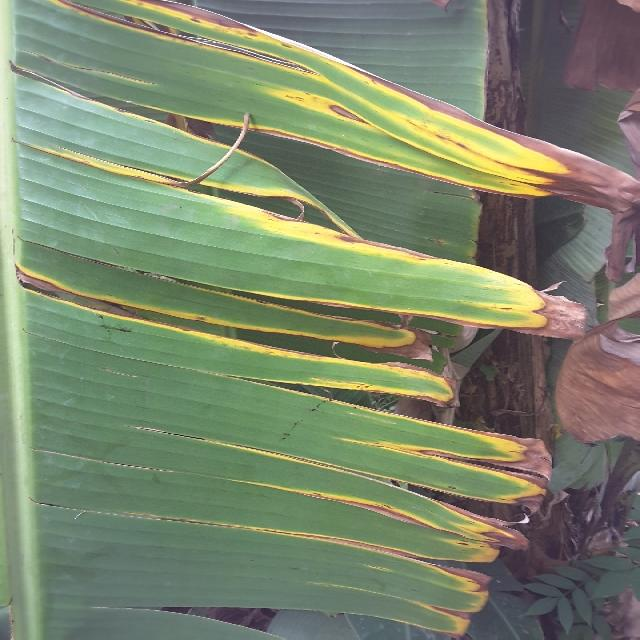Bract_mosaic_virus: (548, 290, 640, 462), (553, 0, 640, 124), (596, 156, 640, 299)
Cordana: (5, 0, 580, 640)
